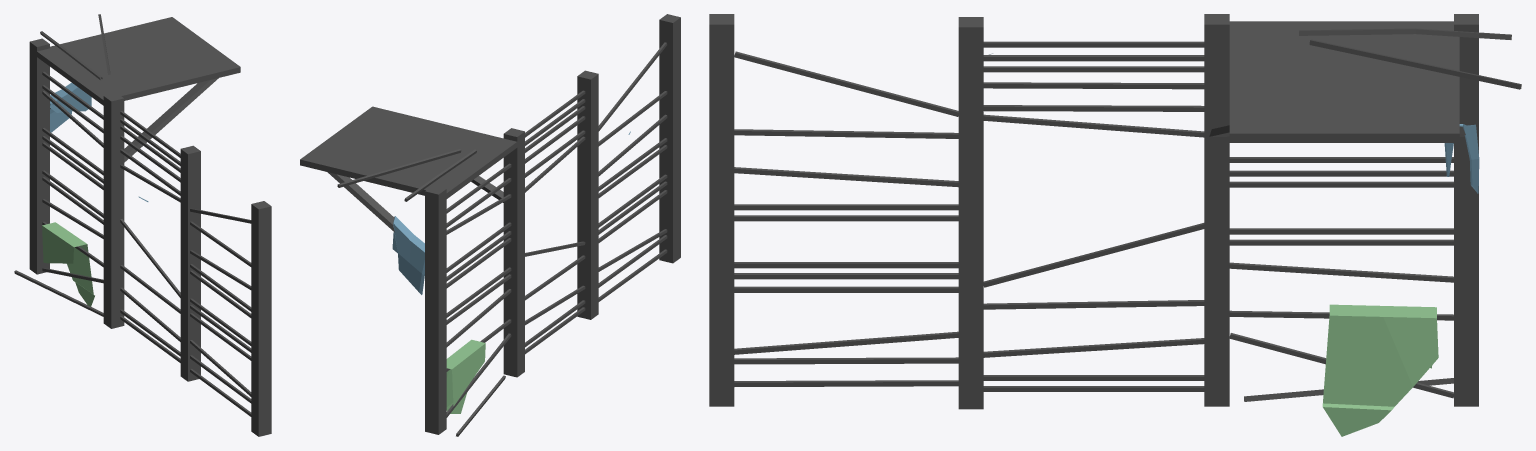
Rendered from Grillage.fbx.
3 views of the same model, side by side, from view 1: azimuth 30°, elevation 25°; view 2: azimuth 150°, elevation 25°; view 3: azimuth 270°, elevation 25° (orthographic). The views are drawn at different scales.
Parts seen in each view (by area): view 1: Grillage; view 2: Grillage; view 3: Grillage.
Boxes of the visible parts, box(x1,y1,x2,y2) form: Grillage: box(14, 14, 271, 436); Grillage: box(300, 14, 680, 436); Grillage: box(709, 14, 1521, 436).
Bounding box in the file's own units: 187 × 251 × 454.
